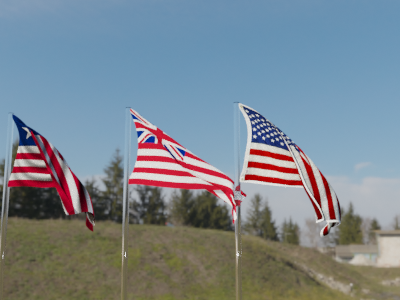America flag: (238, 103, 346, 235)
Liberia flag: (10, 112, 98, 228)
Malaysia flag: (128, 104, 233, 217)
